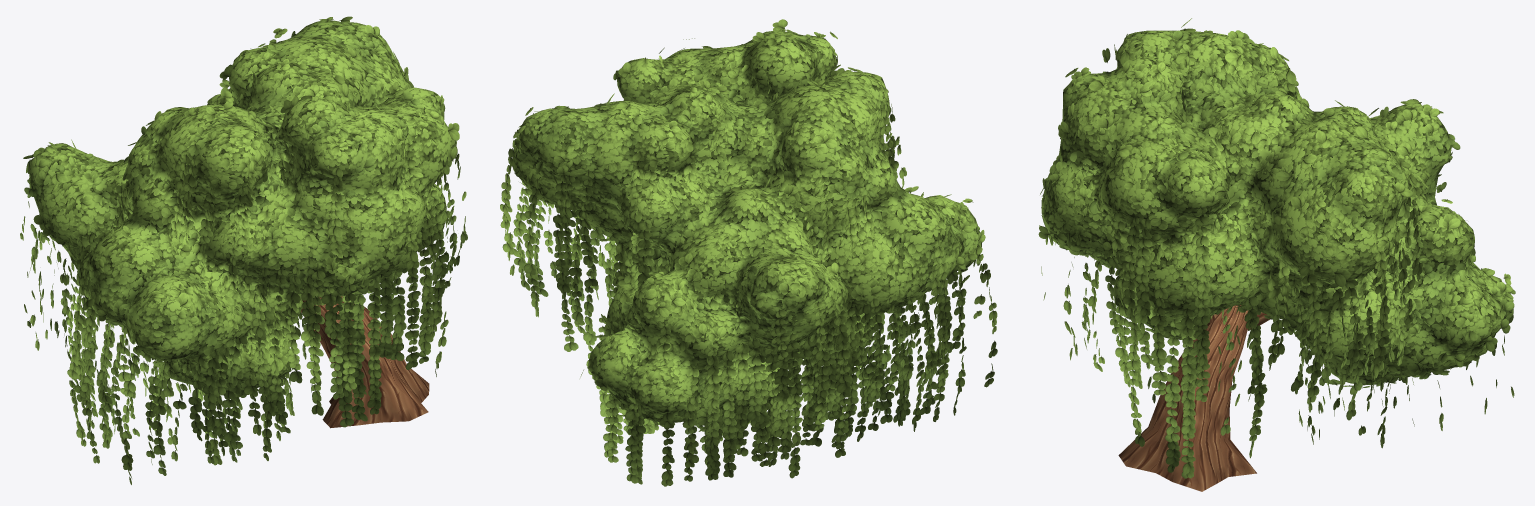
The model's file is willow_v2.glb.
3 renders of one model, left to right at view 1: azimuth 30°, elevation 25°; view 2: azimuth 150°, elevation 25°; view 3: azimuth 270°, elevation 25°, orthographic. The views are drawn at different scales.
Parts seen in each view (by area): view 1: willow_v2_leaves_LOD0, willow_v2_volume_LOD0, willow_v2_trunk_LOD0; view 2: willow_v2_leaves_LOD0, willow_v2_volume_LOD0; view 3: willow_v2_volume_LOD0, willow_v2_leaves_LOD0, willow_v2_trunk_LOD0.
Part boxes in pixels (<box>): willow_v2_leaves_LOD0: <box>20,16,467,484</box>; willow_v2_volume_LOD0: <box>29,21,456,390</box>; willow_v2_trunk_LOD0: <box>301,296,429,428</box>; willow_v2_leaves_LOD0: <box>500,19,997,486</box>; willow_v2_volume_LOD0: <box>512,31,981,425</box>; willow_v2_volume_LOD0: <box>1041,30,1513,385</box>; willow_v2_leaves_LOD0: <box>1038,18,1515,478</box>; willow_v2_trunk_LOD0: <box>1118,305,1270,491</box>.
Size of what is drawn, in the model's own units: 11.84 by 9.92 by 11.64.
Materials: 3 (3 with a texture image).
